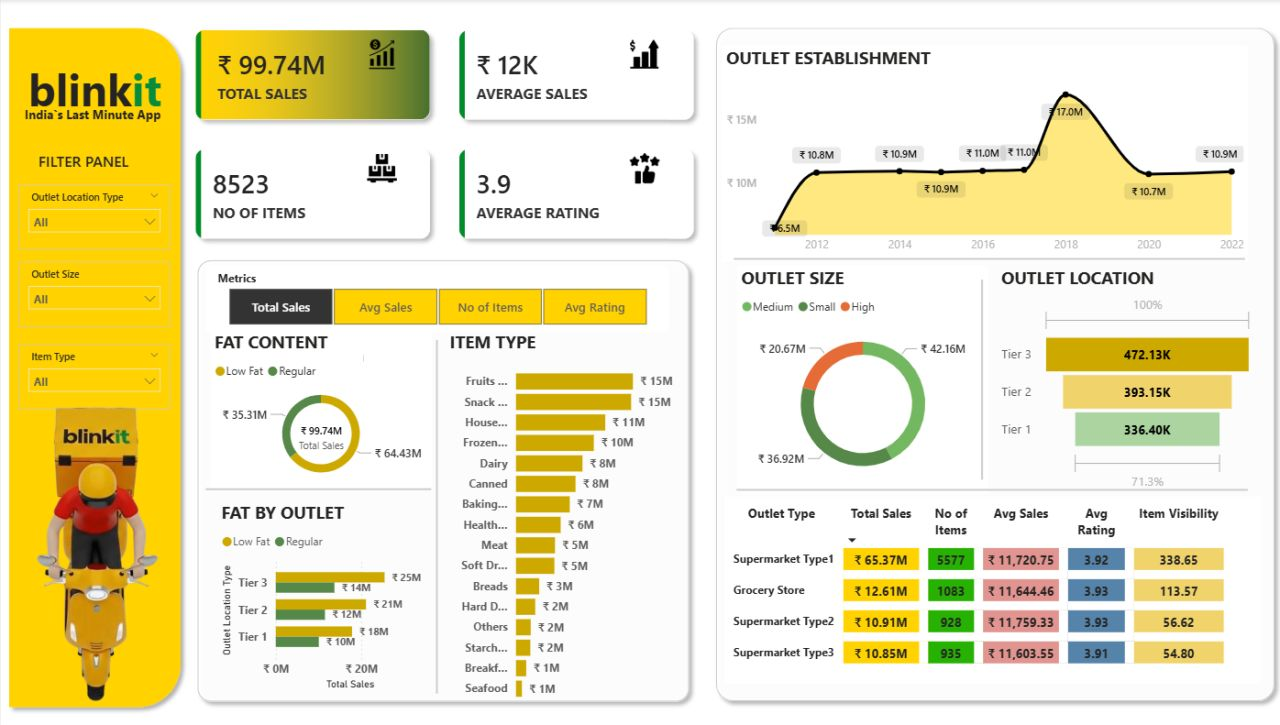

The page's visual inventory and layout, read from the dashboard file:
{"tool":"powerbi","page":{"name":"Page 1","canvas":[1400,800],"ordinal":0},"visuals":[{"type":"shape","box":[0,23.2,205.4,760.2],"z":0},{"type":"textbox","box":[20.7,59.9,163.3,101.3],"z":1000},{"type":"textbox","box":[270.8,711,186,72.3],"z":2000},{"type":"textbox","box":[20.7,111.6,186,57.9],"z":3000},{"type":"cardVisual","fields":{"Data":["BlinkIT Grocery Data.Total Sales","BlinkIT Grocery Data.Avg Sales","BlinkIT Grocery Data.No of Items","BlinkIT Grocery Data.Avg Rating"]},"box":[183.8,5,602.8,286.5],"z":4000},{"type":"image","box":[390.9,43.1,51.3,33.1],"z":5000},{"type":"image","box":[390.9,168.9,51.3,33.1],"z":6000},{"type":"image","box":[677.4,43.1,51,33.1],"z":7000},{"type":"image","box":[677.4,168.9,51.3,33.1],"z":8000},{"type":"shape","box":[205.4,276.6,554.8,500.2],"z":9000},{"type":"donutChart","title":"FAT CONTENT","fields":{"Y":["BlinkIT Grocery Data.Total Sales"],"Category":["BlinkIT Grocery Data.Item Fat Content"]},"box":[228.6,362.7,241.8,172.2],"z":10000},{"type":"slicer","fields":{"Values":["Metrics.Metrics"]},"box":[223.6,291.5,505.1,71.2],"z":11000},{"type":"cardVisual","fields":{"Data":["BlinkIT Grocery Data.Total Sales"]},"box":[268.8,431,162.2,96.1],"z":12000},{"type":"clusteredBarChart","title":"FAT BY OUTLET","fields":{"Y":["BlinkIT Grocery Data.Total Sales"],"Category":["BlinkIT Grocery Data.Outlet Location Type"],"Series":["BlinkIT Grocery Data.Item Fat Content"]},"box":[235.2,548.2,250.1,210.3],"z":13000},{"type":"shape","box":[223.8,528.7,246.3,13.5],"z":14000},{"type":"shape","box":[470.1,372.5,12,386],"z":15000},{"type":"barChart","title":"ITEM TYPE ","fields":{"Y":["BlinkIT Grocery Data.Total Sales"],"Category":["BlinkIT Grocery Data.Item Type"]},"box":[485.3,362.7,255,414],"z":16000},{"type":"shape","box":[771.8,23.2,627.7,753.6],"z":17000},{"type":"lineChart","title":"OUTLET ESTABLISHMENT","fields":{"Category":["BlinkIT Grocery Data.Outlet Establishment Year"],"Y":["BlinkIT Grocery Data.Total Sales"]},"box":[786.7,51.3,574.7,235.2],"z":18000},{"type":"donutChart","title":"OUTLET SIZE","fields":{"Y":["BlinkIT Grocery Data.Total Sales"],"Category":["BlinkIT Grocery Data.Outlet Size"]},"box":[803.2,291.5,274.9,248.4],"z":19000},{"type":"shape","box":[1064.9,306.4,13.2,218.6],"z":20000},{"type":"funnel","title":"OUTLET LOCATION","fields":{"Category":["BlinkIT Grocery Data.Outlet Location Type"],"Y":["Sum(BlinkIT Grocery Data.Sales)"]},"box":[1088.1,291.5,284.9,250.1],"z":21000},{"type":"shape","box":[803.2,528.3,558.1,14.9],"z":22000},{"type":"pivotTable","fields":{"Rows":["BlinkIT Grocery Data.Outlet Type"],"Values":["BlinkIT Grocery Data.Total Sales","BlinkIT Grocery Data.No of Items","BlinkIT Grocery Data.Avg Sales","BlinkIT Grocery Data.Avg Rating","Sum(BlinkIT Grocery Data.Item Visibility)"]},"box":[790,543.2,586.3,203.7],"z":23000},{"type":"shape","box":[799.9,276.6,558.1,14.9],"z":24000},{"type":"slicer","fields":{"Values":["BlinkIT Grocery Data.Outlet Location Type"]},"box":[19.9,202.1,165.6,71.2],"z":25000},{"type":"slicer","fields":{"Values":["BlinkIT Grocery Data.Outlet Size"]},"box":[19.9,286.5,165.6,71.2],"z":26000},{"type":"slicer","fields":{"Values":["BlinkIT Grocery Data.Item Type"]},"box":[19.9,377.6,165.6,71.2],"z":27000},{"type":"textbox","box":[390.5,383,10.5,18],"z":28000},{"type":"textbox","box":[36.4,160.6,132.5,46.4],"z":29000},{"type":"image","box":[0,383,205.8,399.5],"z":30000}]}

Visuals, with their boxes in screenshot pixels (x1, y1, x2, y2), scaled from the page's 1400x800 canvas onto the 1280x725 screenshot:
shape: {"left": 0, "top": 21, "right": 188, "bottom": 710}
textbox: {"left": 19, "top": 54, "right": 168, "bottom": 146}
textbox: {"left": 248, "top": 644, "right": 418, "bottom": 710}
textbox: {"left": 19, "top": 101, "right": 189, "bottom": 154}
cardVisual - BlinkIT Grocery Data.Total Sales x BlinkIT Grocery Data.Avg Sales: {"left": 168, "top": 5, "right": 719, "bottom": 264}
image: {"left": 357, "top": 39, "right": 404, "bottom": 69}
image: {"left": 357, "top": 153, "right": 404, "bottom": 183}
image: {"left": 619, "top": 39, "right": 666, "bottom": 69}
image: {"left": 619, "top": 153, "right": 666, "bottom": 183}
shape: {"left": 188, "top": 251, "right": 695, "bottom": 704}
"FAT CONTENT" donutChart: {"left": 209, "top": 329, "right": 430, "bottom": 485}
slicer - Metrics.Metrics: {"left": 204, "top": 264, "right": 666, "bottom": 329}
cardVisual - BlinkIT Grocery Data.Total Sales: {"left": 246, "top": 391, "right": 394, "bottom": 478}
"FAT BY OUTLET" clusteredBarChart: {"left": 215, "top": 497, "right": 444, "bottom": 687}
shape: {"left": 205, "top": 479, "right": 430, "bottom": 491}
shape: {"left": 430, "top": 338, "right": 441, "bottom": 687}
"ITEM TYPE " barChart: {"left": 444, "top": 329, "right": 677, "bottom": 704}
shape: {"left": 706, "top": 21, "right": 1279, "bottom": 704}
"OUTLET ESTABLISHMENT" lineChart: {"left": 719, "top": 46, "right": 1245, "bottom": 260}
"OUTLET SIZE" donutChart: {"left": 734, "top": 264, "right": 986, "bottom": 489}
shape: {"left": 974, "top": 278, "right": 986, "bottom": 476}
"OUTLET LOCATION" funnel: {"left": 995, "top": 264, "right": 1255, "bottom": 491}
shape: {"left": 734, "top": 479, "right": 1245, "bottom": 492}
pivotTable - BlinkIT Grocery Data.Outlet Type x BlinkIT Grocery Data.Total Sales: {"left": 722, "top": 492, "right": 1258, "bottom": 677}
shape: {"left": 731, "top": 251, "right": 1242, "bottom": 264}
slicer - BlinkIT Grocery Data.Outlet Location Type: {"left": 18, "top": 183, "right": 170, "bottom": 248}
slicer - BlinkIT Grocery Data.Outlet Size: {"left": 18, "top": 260, "right": 170, "bottom": 324}
slicer - BlinkIT Grocery Data.Item Type: {"left": 18, "top": 342, "right": 170, "bottom": 407}
textbox: {"left": 357, "top": 347, "right": 367, "bottom": 363}
textbox: {"left": 33, "top": 146, "right": 154, "bottom": 188}
image: {"left": 0, "top": 347, "right": 188, "bottom": 709}
